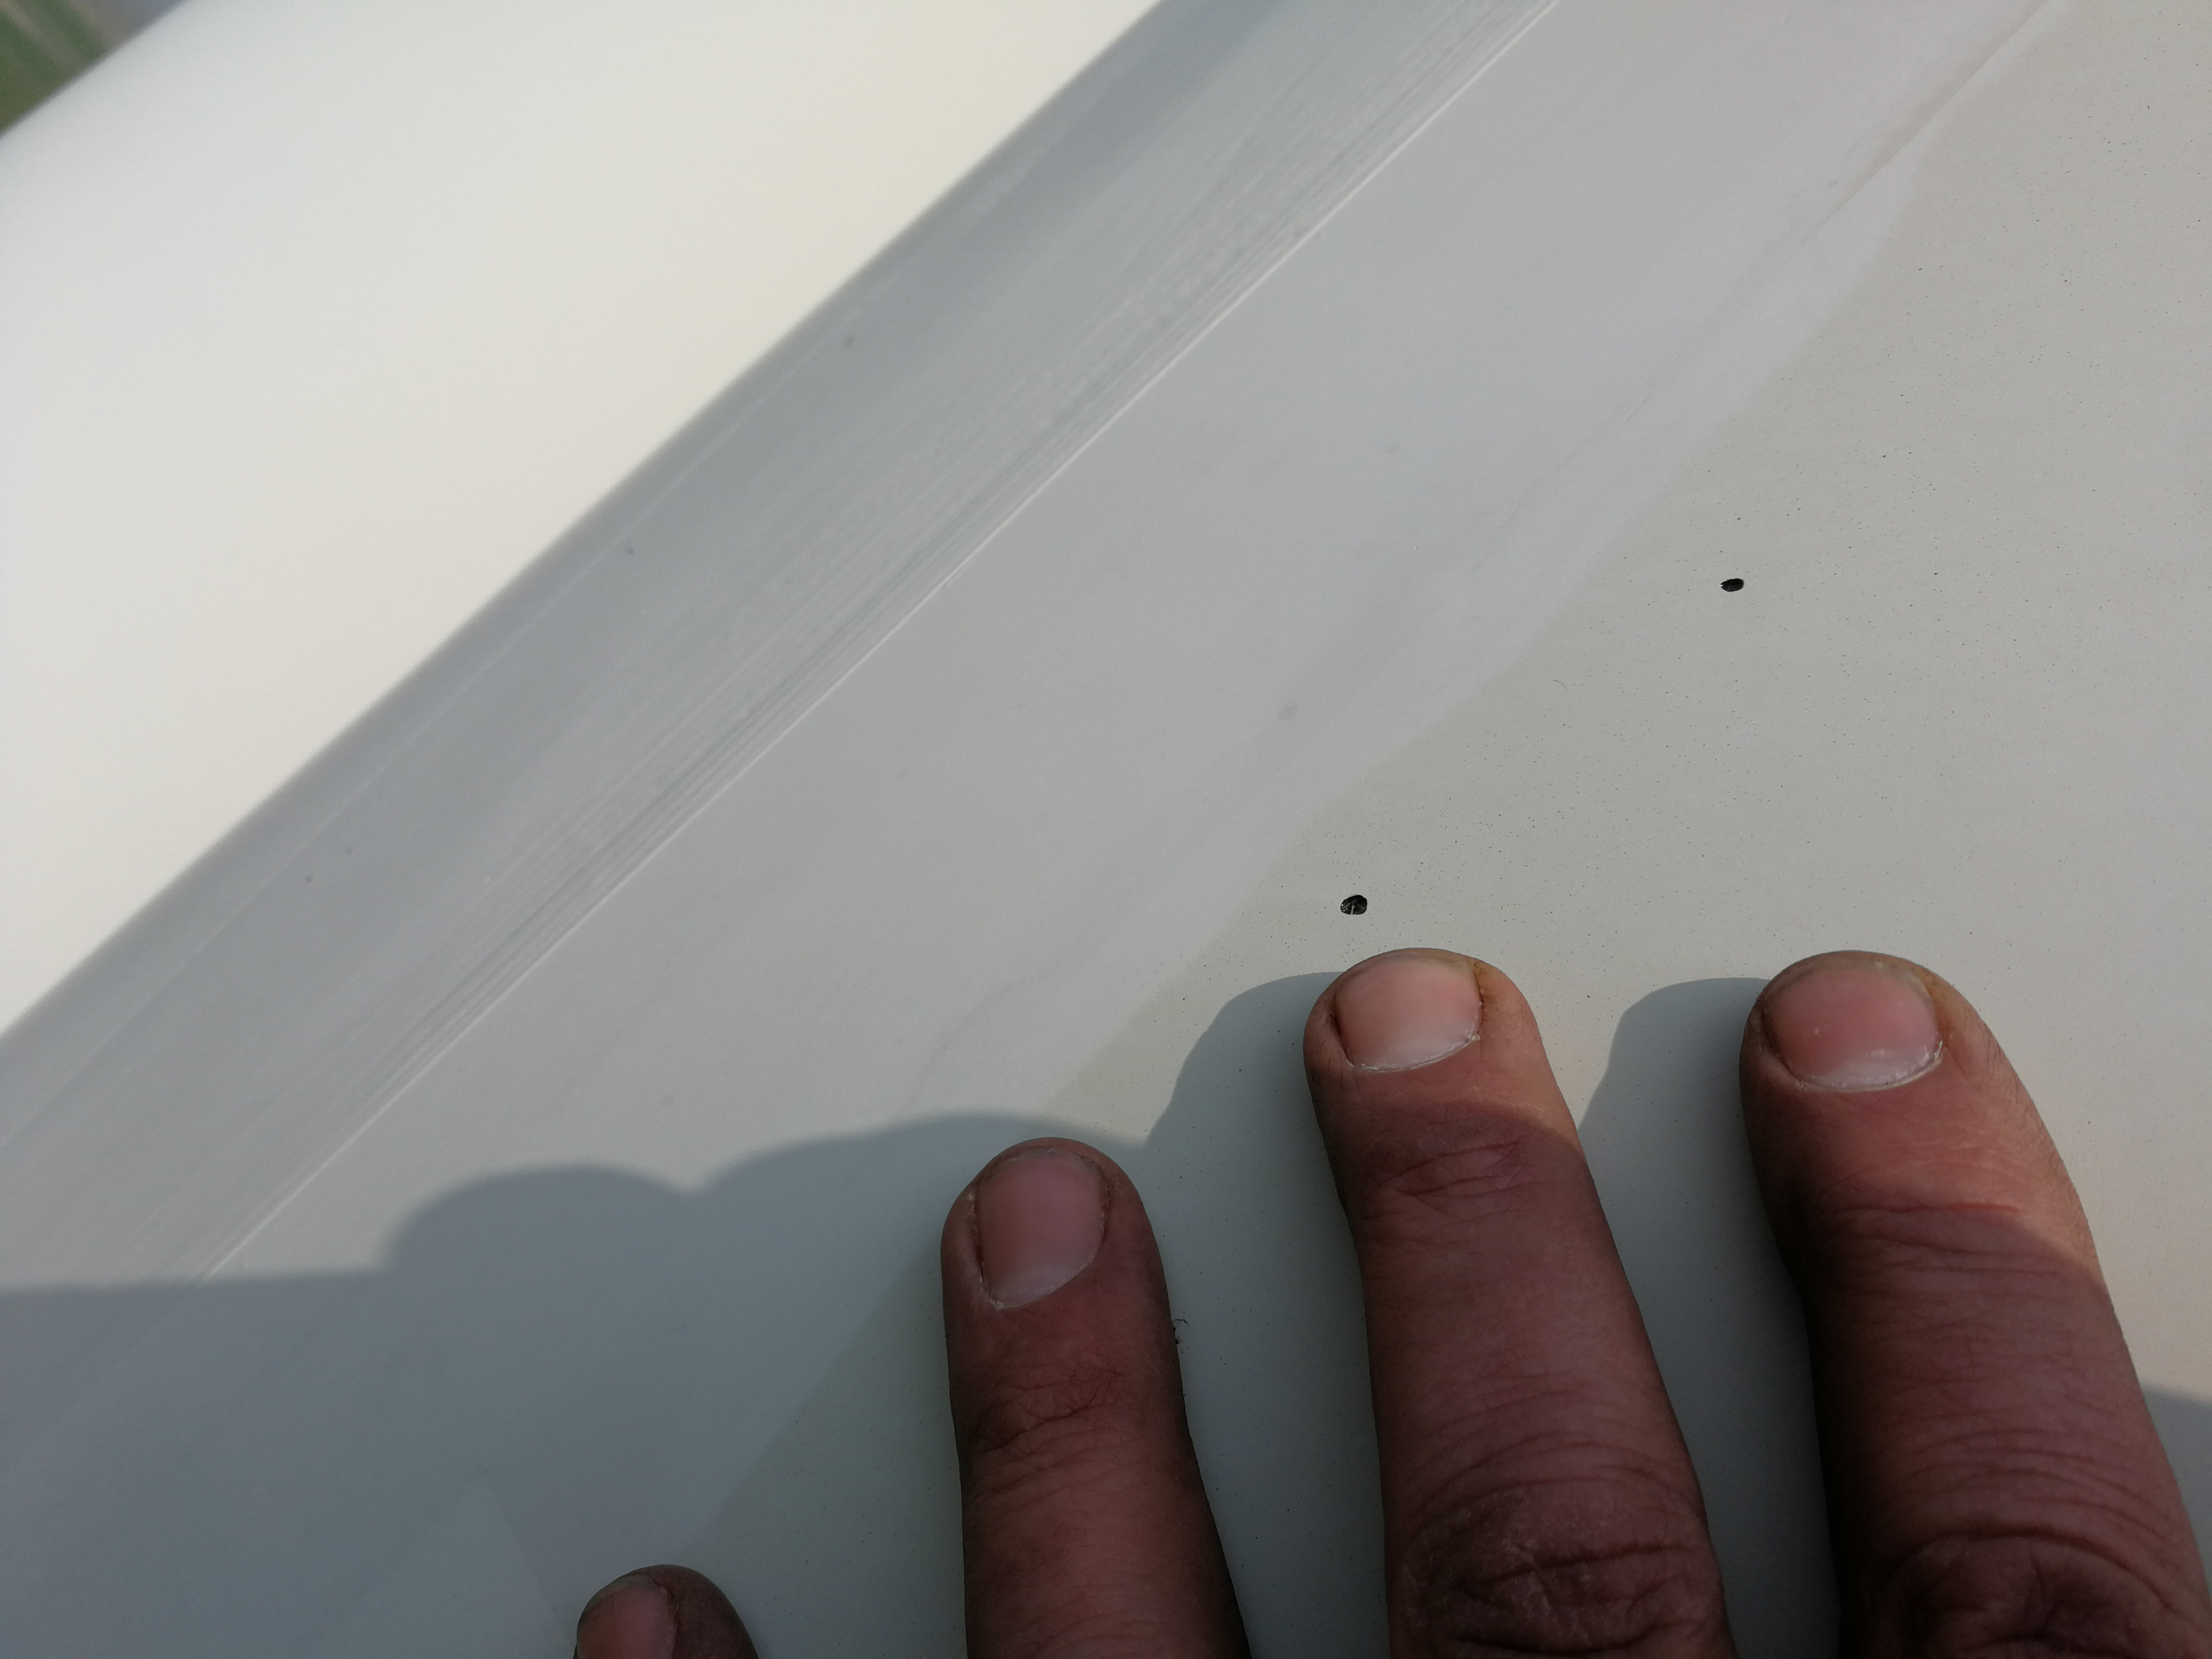SD: (1318, 885, 1381, 924), (1717, 572, 1752, 601)
